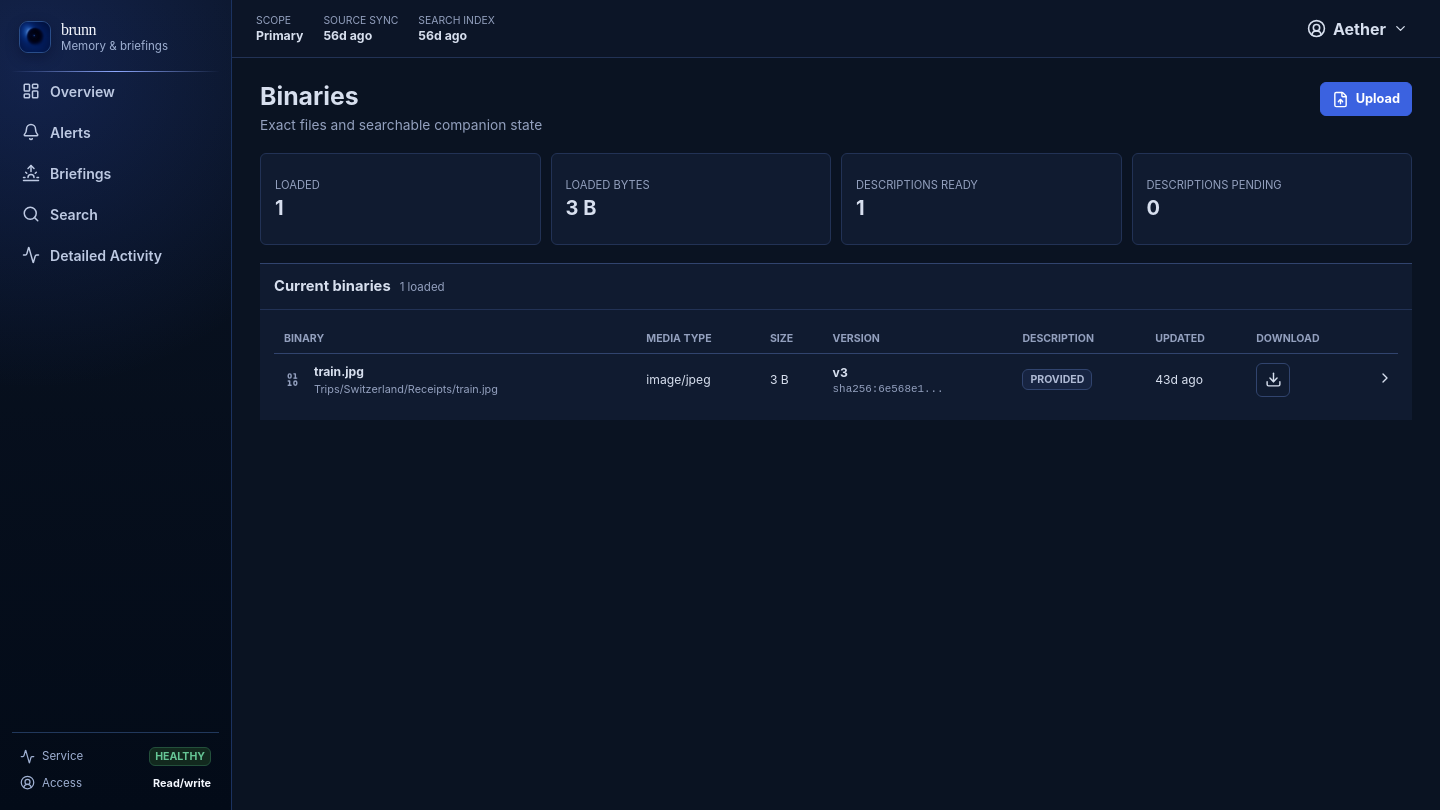
workspace binaries › lists current binaries without a pinned session and exposes metadata
Check: the text "Provided" is shown, box [1022, 369, 1092, 390]
Click the row named "Inspect train.jpg" at (836, 380), box [274, 353, 1398, 406]
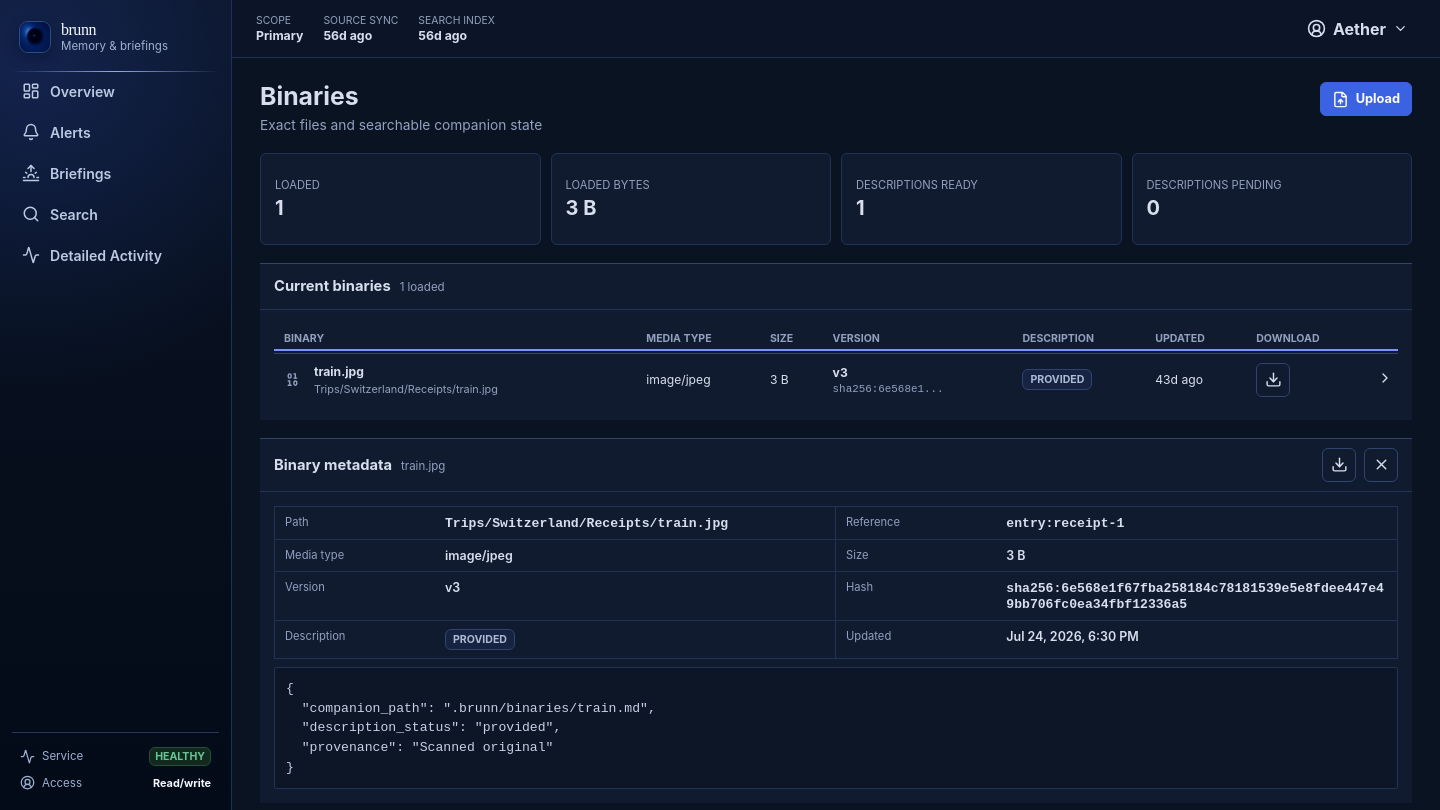
Check: the element "Binary metadata" is shown, box [260, 438, 1412, 803]
Check: the text named "Stored binary metadata" shows "Scanned original", box [286, 681, 656, 775]
Check: the text "entry:receipt-1" is shown, box [1006, 516, 1124, 531]
